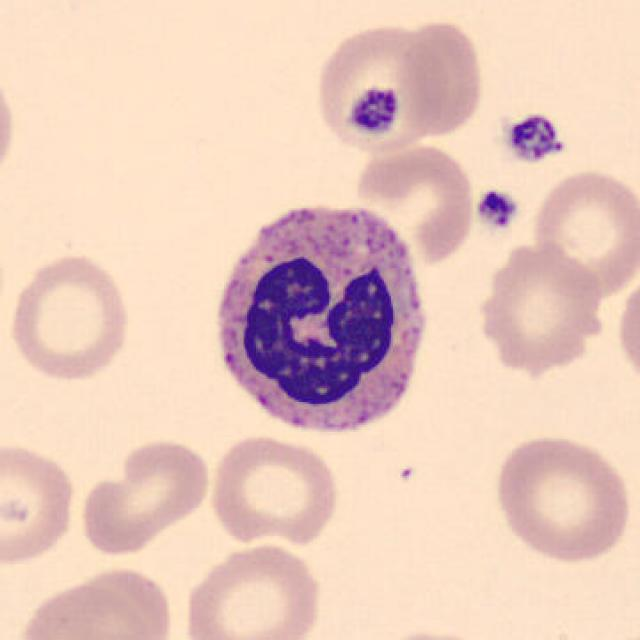Neutrophil: (201, 187, 441, 449)
Platelets: (500, 109, 567, 166), (346, 85, 402, 139), (473, 187, 523, 234)
RBC: (489, 430, 633, 564), (316, 24, 462, 155), (473, 238, 608, 374), (4, 247, 135, 384), (77, 435, 215, 559), (352, 141, 478, 268), (206, 432, 343, 548), (526, 164, 638, 300), (179, 539, 325, 640), (393, 16, 489, 141), (0, 437, 80, 571), (10, 576, 161, 640), (613, 270, 640, 393), (0, 62, 21, 194)
